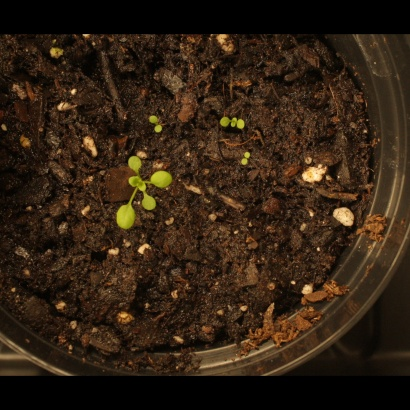leaf: (110, 204, 139, 235), (150, 126, 173, 149), (144, 104, 167, 127), (208, 110, 231, 133), (238, 113, 261, 136), (239, 135, 262, 158), (237, 159, 260, 182), (152, 168, 175, 191), (125, 151, 148, 174), (137, 193, 160, 216), (126, 173, 149, 196)
